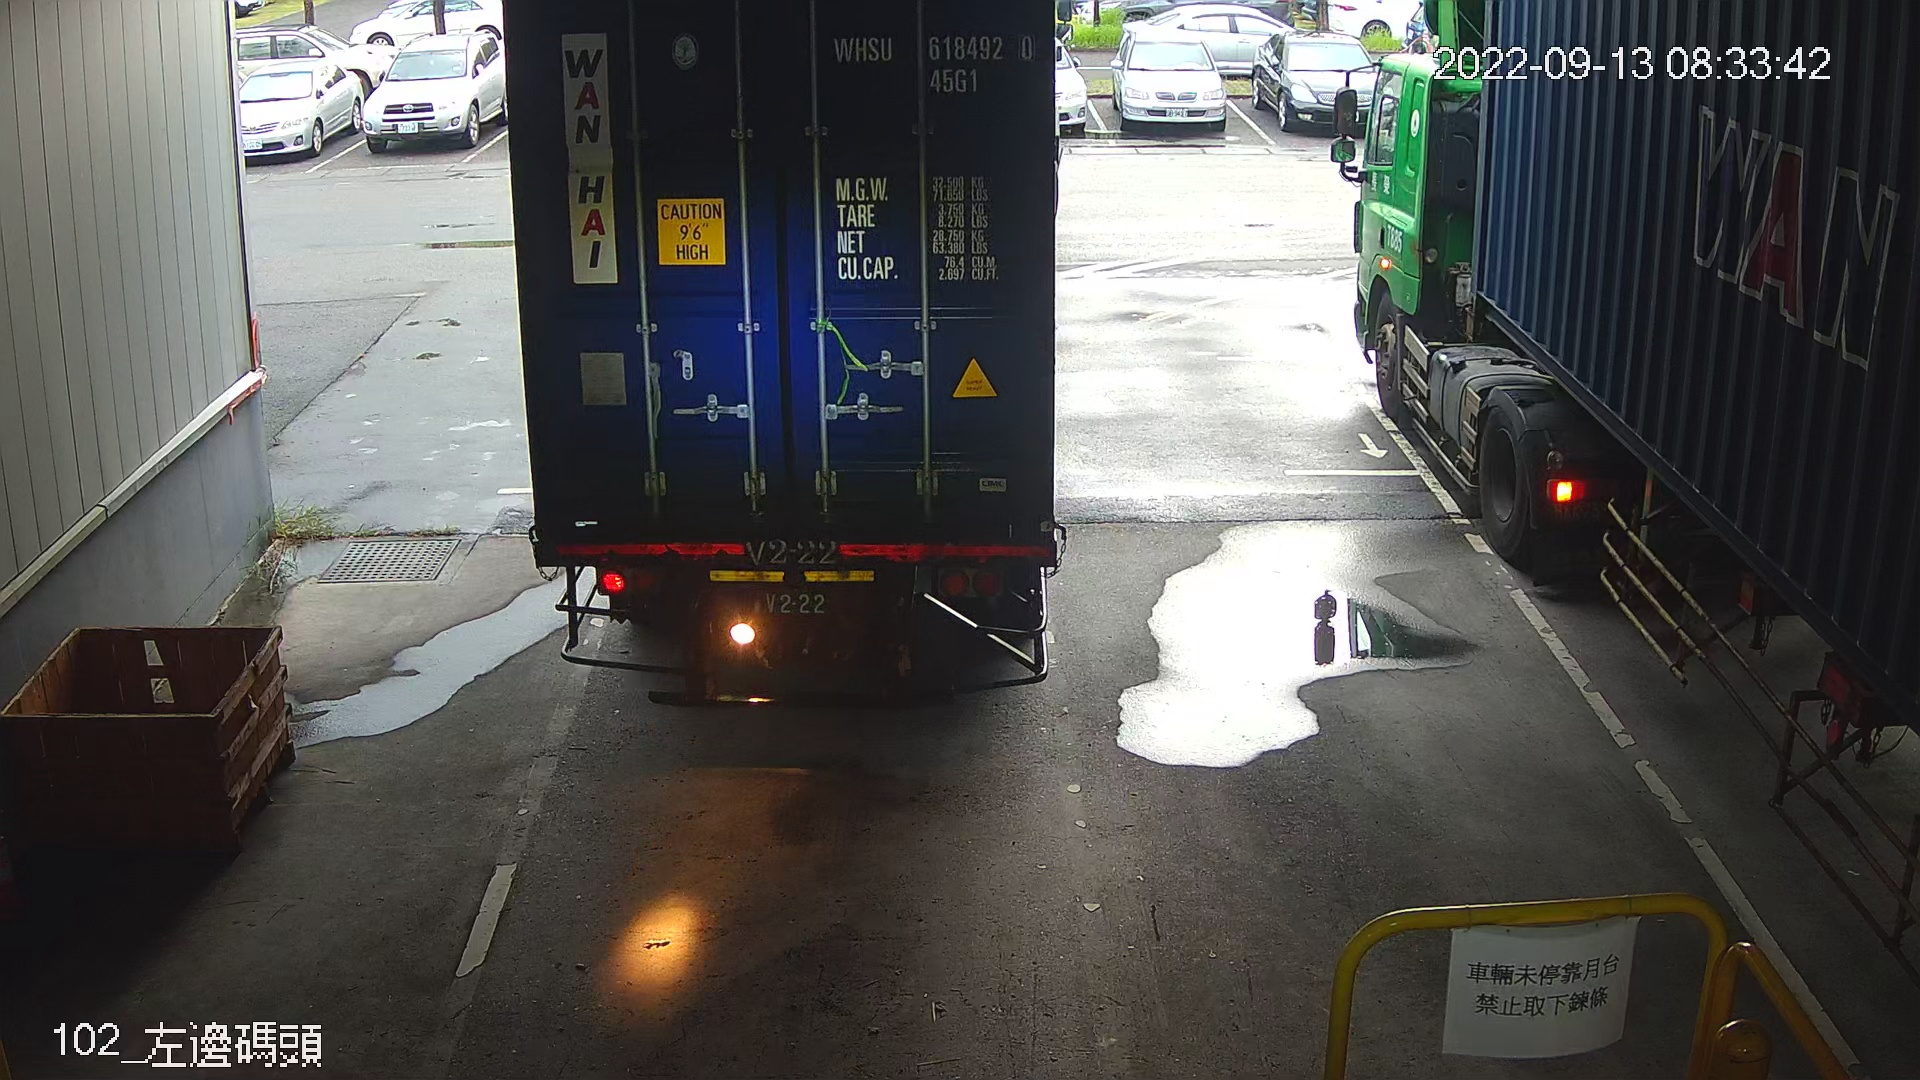container: (825, 22, 1042, 102)
